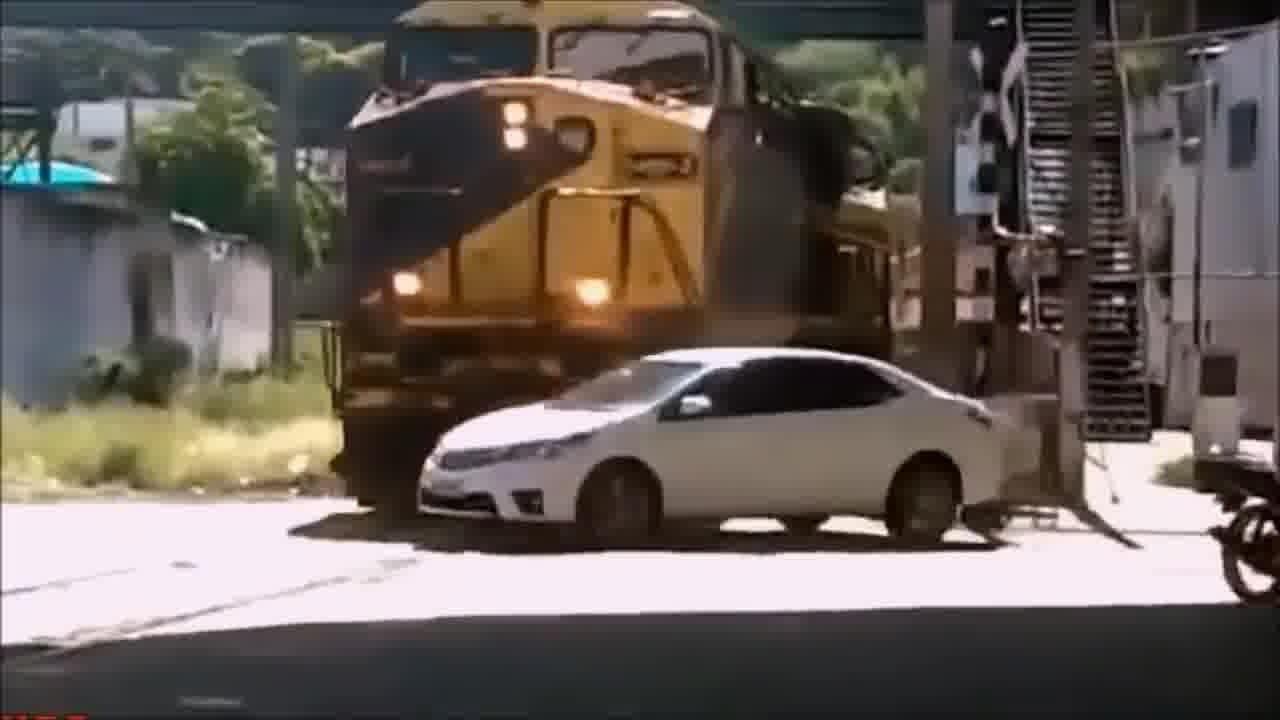crossing railway track: (413, 339, 1008, 581)
